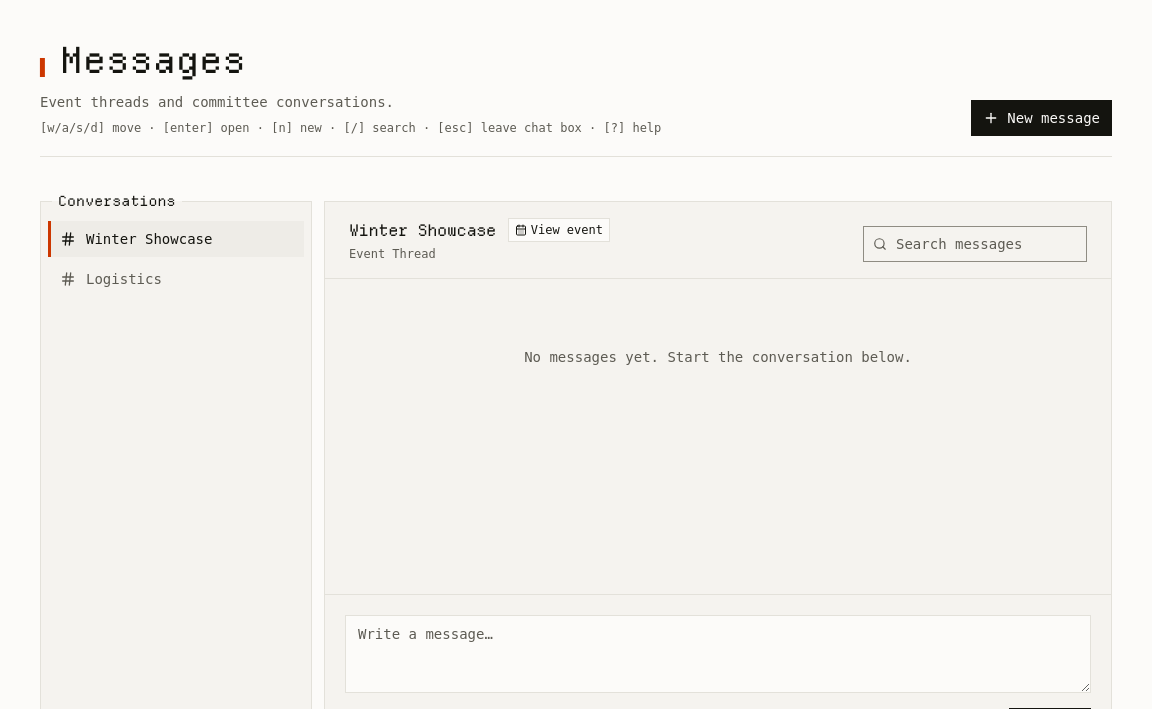
Test case: MessagesPage › links an event's thread to that event's Thread tab, and a group to nothing
Click the button "Logistics".
click(176, 279)  # box x1=48 y1=261 x2=304 y2=297
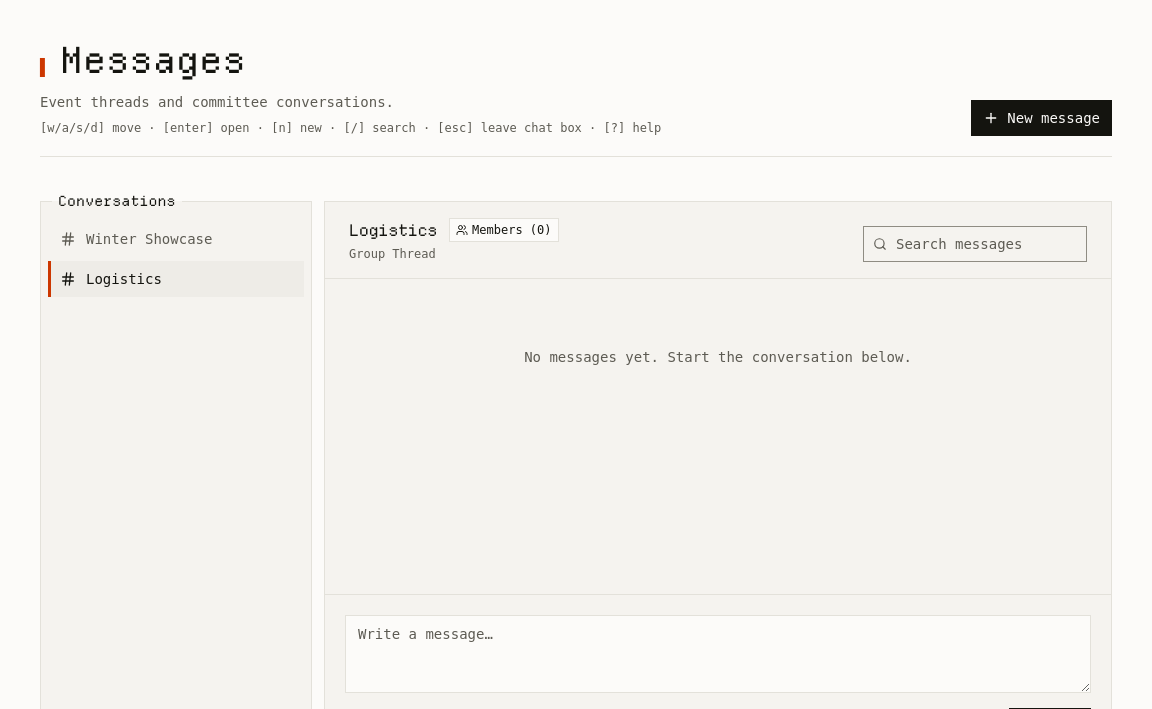
expect the heading "Logistics" is shown: met, box x1=349 y1=218 x2=437 y2=242
expect the link "View event" is gone: met
